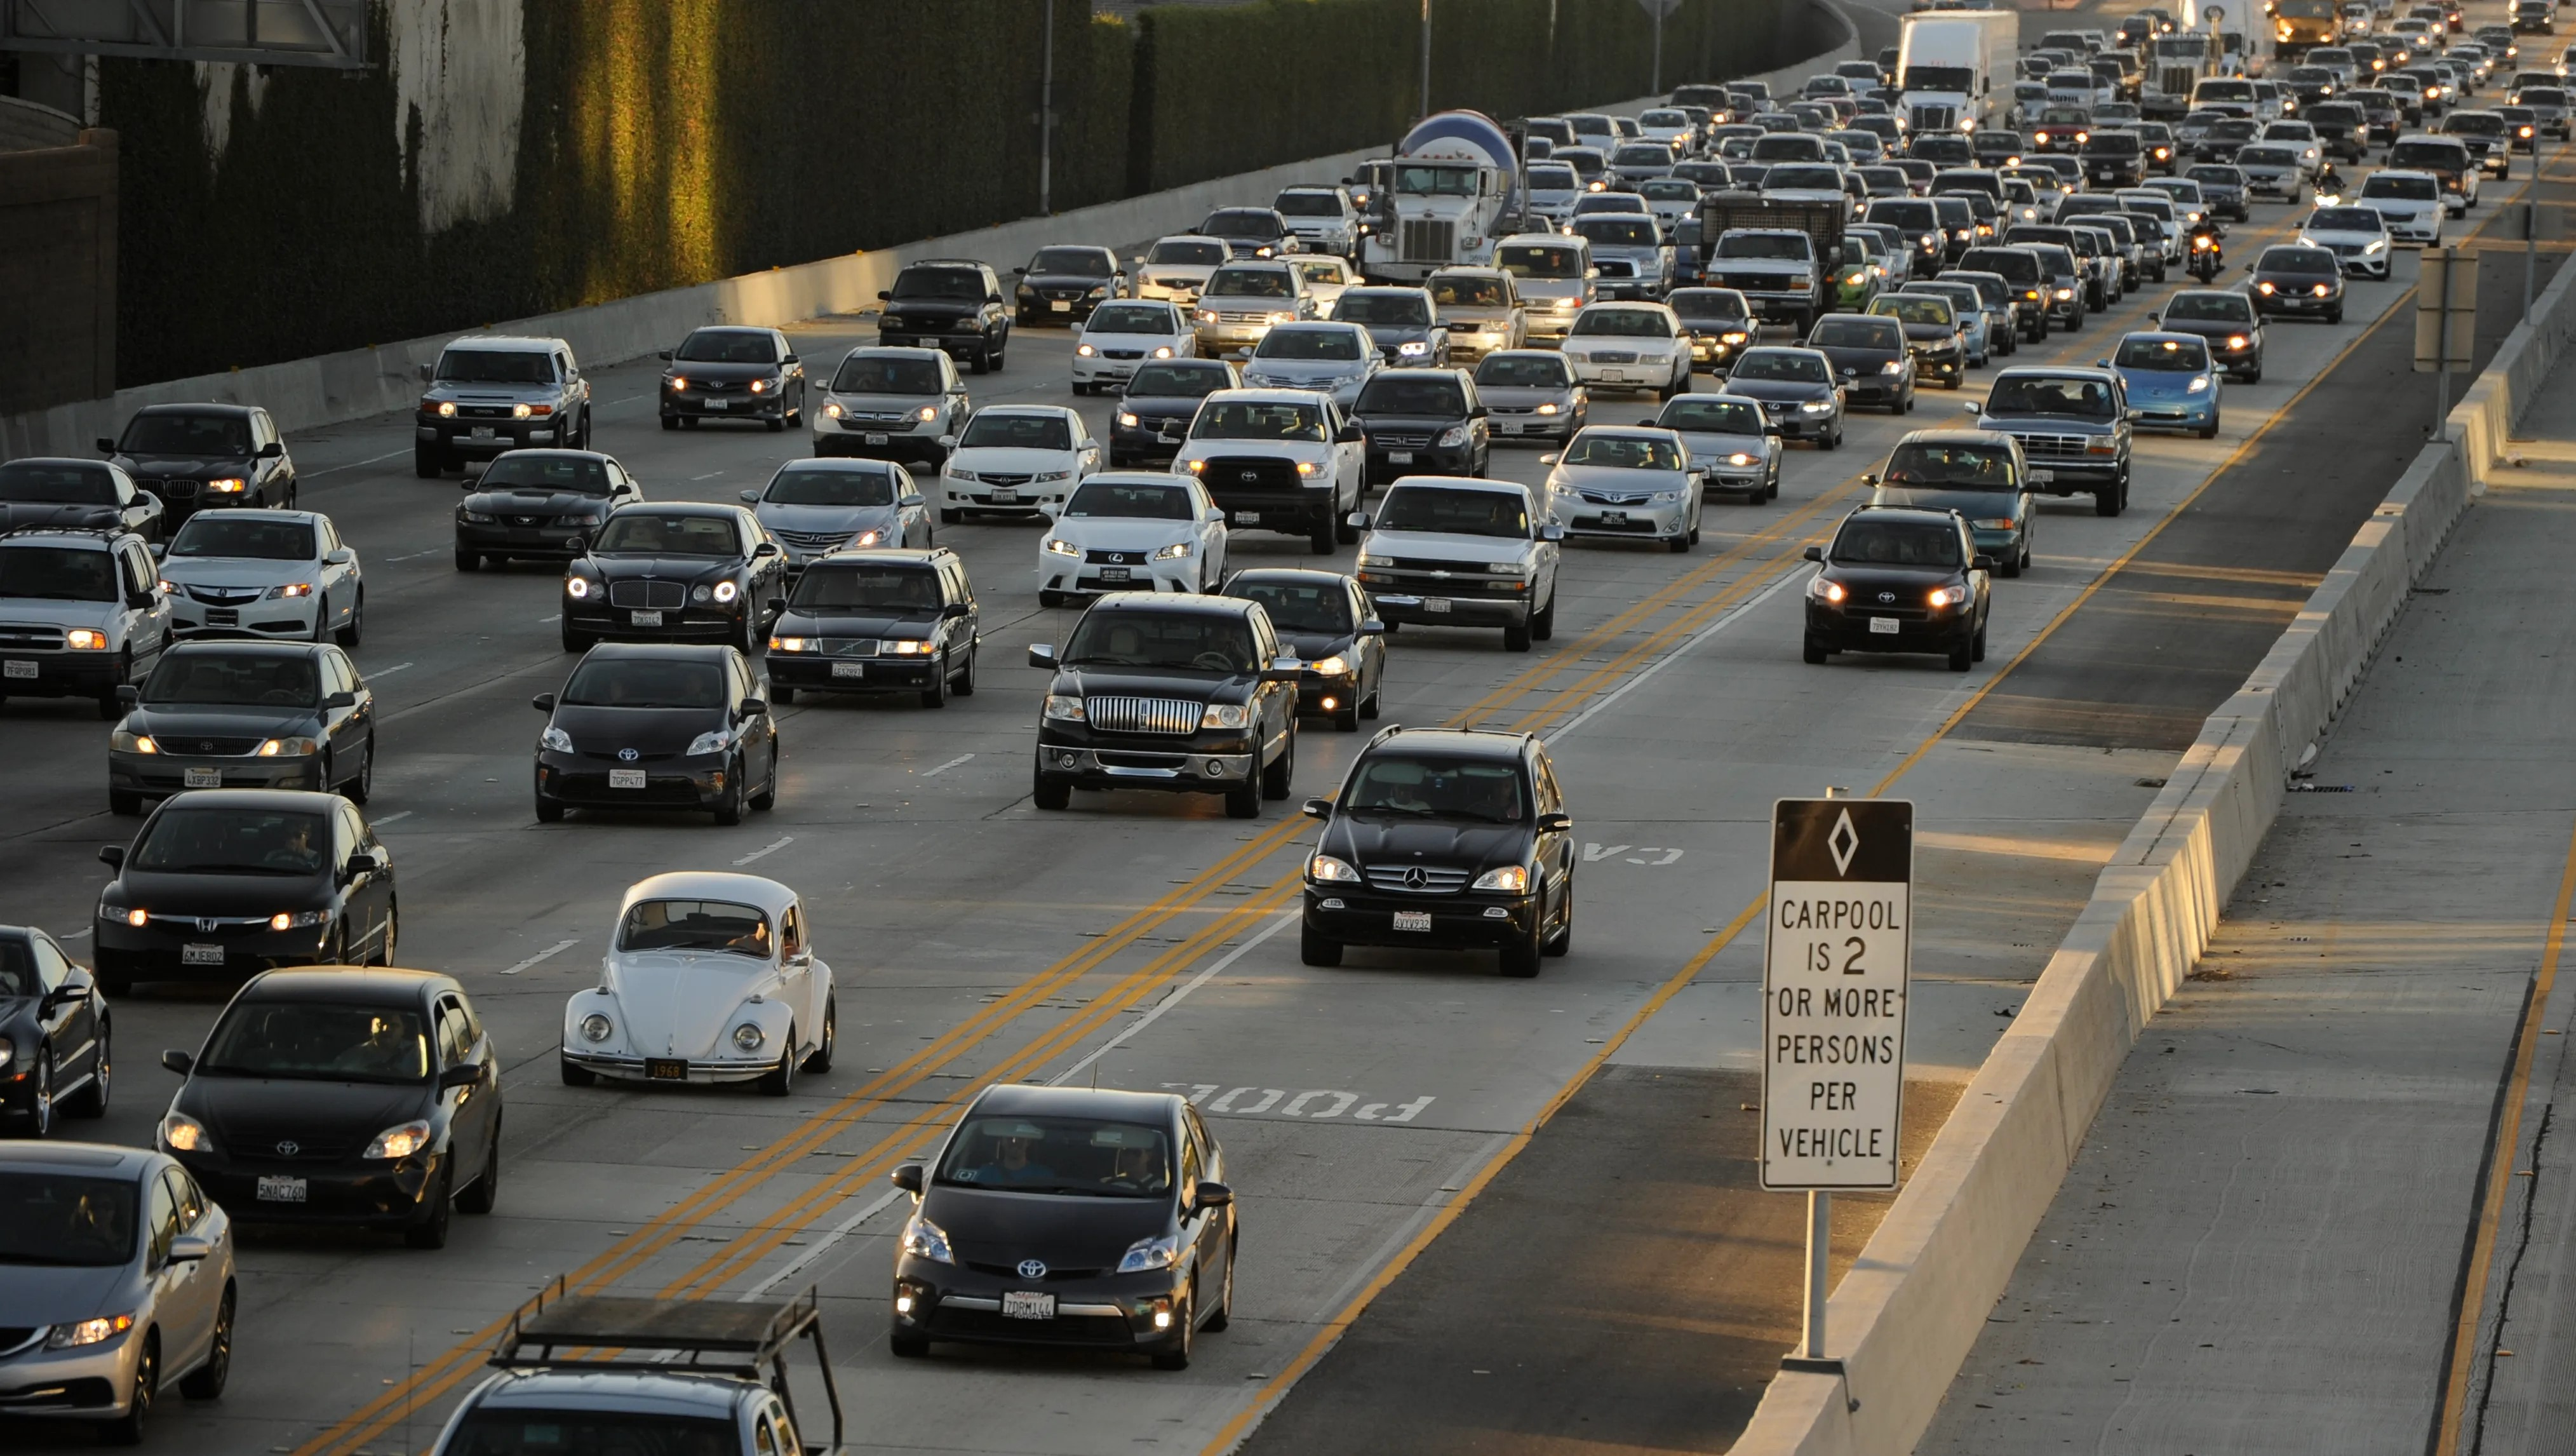LightVehicle: (885, 1063, 1233, 1380), (168, 962, 494, 1258), (1307, 725, 1583, 987), (556, 865, 832, 1102), (533, 637, 780, 828), (1368, 467, 1557, 655), (1810, 499, 1990, 671), (1536, 421, 1700, 550), (660, 320, 803, 439)
